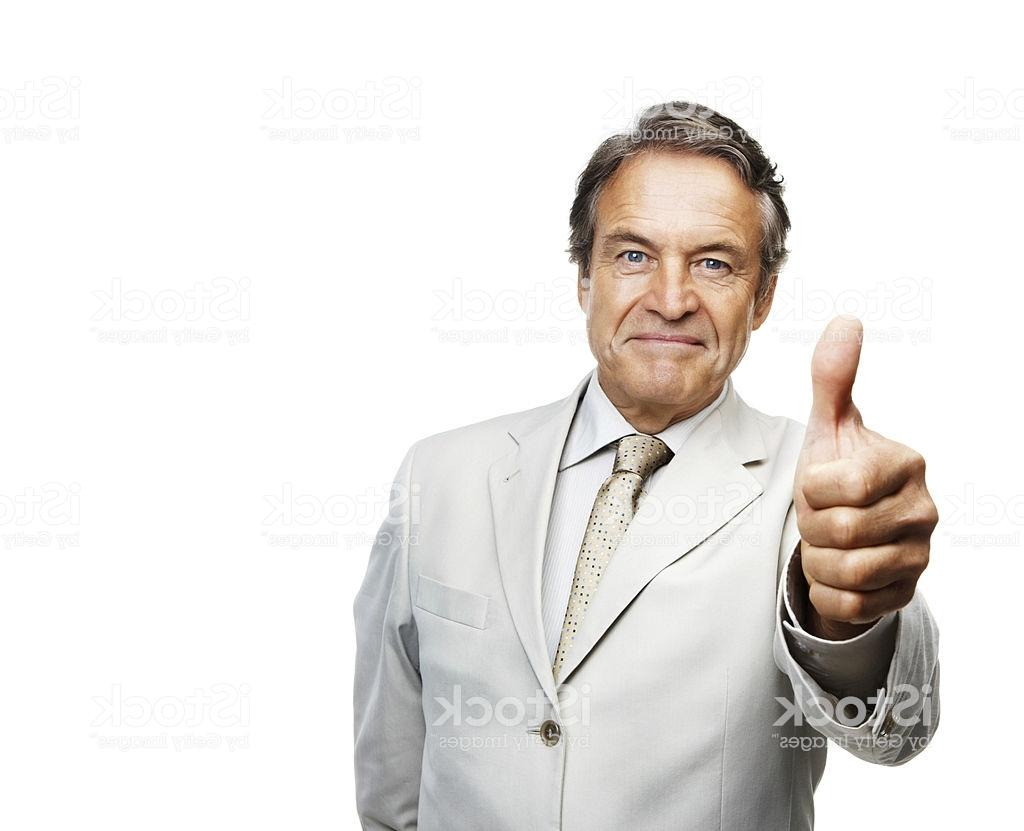thumbsup: (799, 314, 941, 624)
